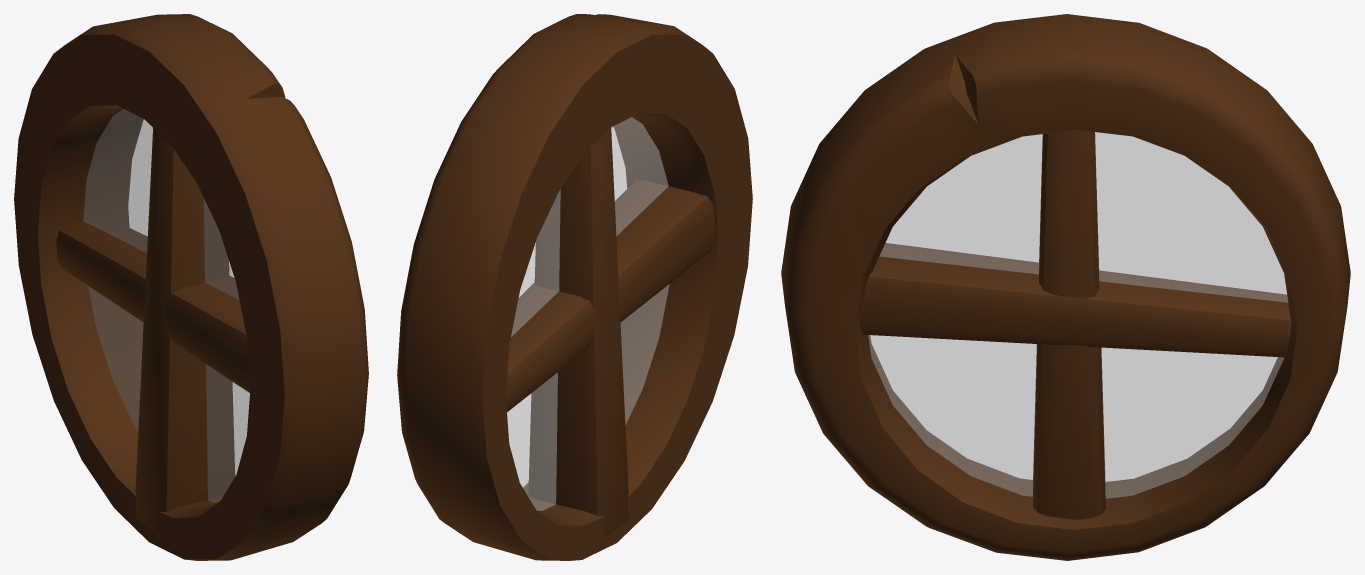
Rendered from Window.fbx.
The picture shows the model from 3 angles, left to right: view 1: azimuth 30°, elevation 25°; view 2: azimuth 150°, elevation 25°; view 3: azimuth 270°, elevation 25°; orthographic projection. The views are drawn at different scales.
Visible parts, largest first — view 1: Windows; view 2: Windows; view 3: Windows.
Part boxes in pixels (bbox=[...]): Windows: bbox=[14, 14, 368, 560]; Windows: bbox=[397, 14, 752, 560]; Windows: bbox=[781, 14, 1350, 560].
Size of the model in its own units: 0.3742 by 1.9 by 1.9.
